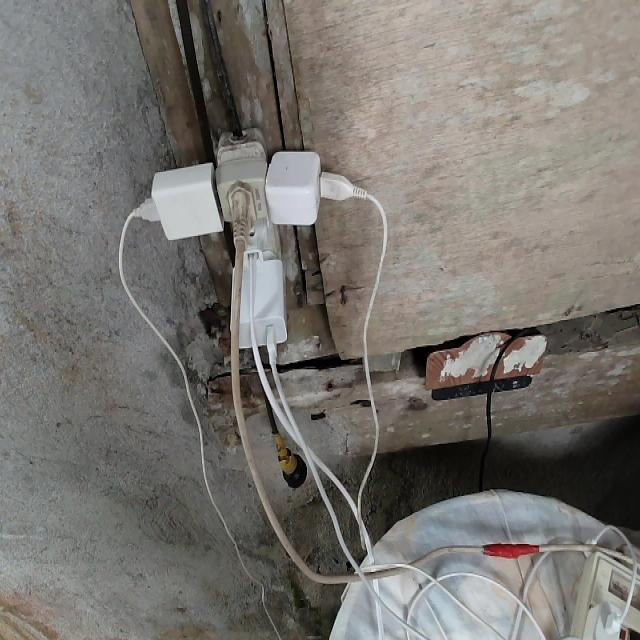-: (138, 128, 348, 352)
